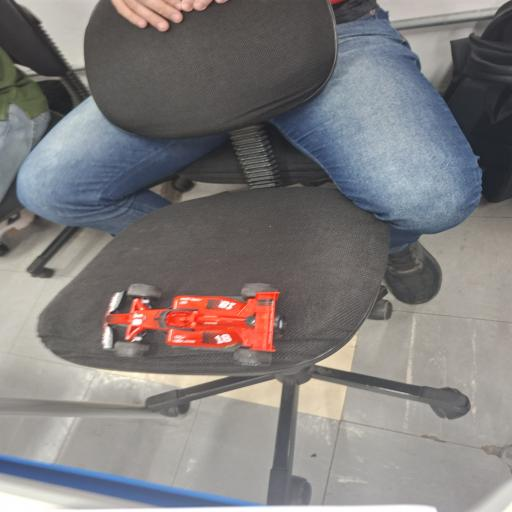carro: (102, 284, 285, 365)
